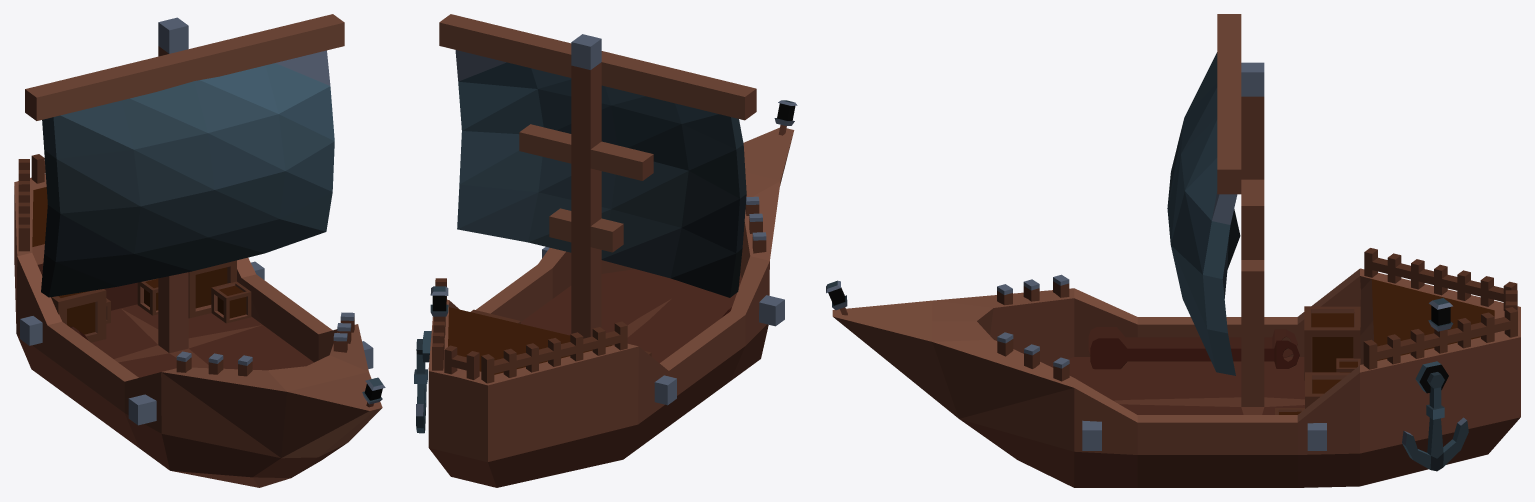
Rendered from Ship.fbx.
The picture shows the model from 3 angles, left to right: view 1: azimuth 30°, elevation 25°; view 2: azimuth 150°, elevation 25°; view 3: azimuth 270°, elevation 25°; orthographic projection. The views are drawn at different scales.
Visible parts, largest first — view 1: Ship1; view 2: Ship1; view 3: Ship1.
Boxes of the visible parts, <box> form: Ship1: <box>14,14,385,487</box>; Ship1: <box>414,14,797,487</box>; Ship1: <box>826,14,1520,487</box>.
Size of the model in its own units: 41.27 by 51.35 by 77.78.
